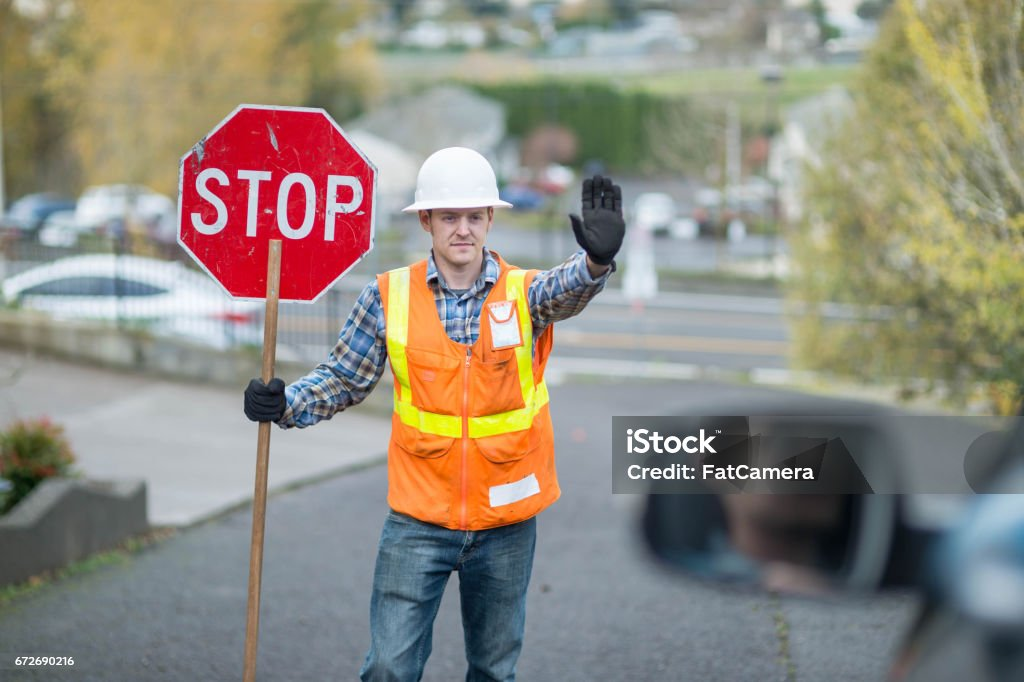StopSign: (175, 102, 379, 304)
